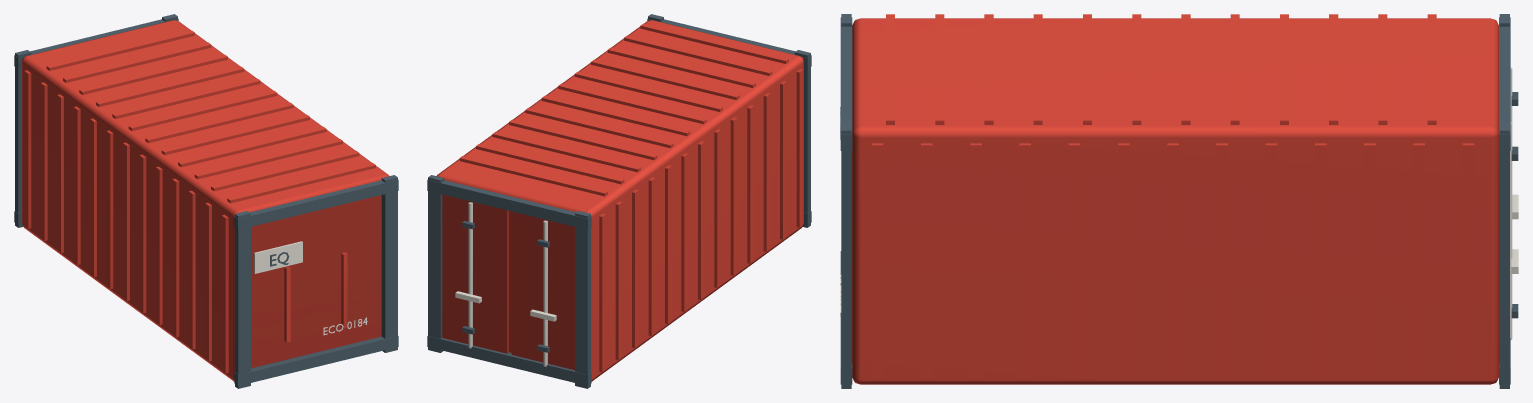
The model's file is container-red.glb.
3 renders of one model, left to right at view 1: azimuth 30°, elevation 25°; view 2: azimuth 150°, elevation 25°; view 3: azimuth 270°, elevation 25°, orthographic. The views are drawn at different scales.
Parts seen in each view (by area): view 1: freight container, corner casting, locking bar; view 2: freight container, corner casting, locking bar; view 3: freight container, corner casting, locking bar.
Boxes of the visible parts, <box> form: freight container: <box>22,20,388,381</box>; corner casting: <box>14,14,398,388</box>; locking bar: <box>254,241,367,335</box>; freight container: <box>437,20,803,381</box>; corner casting: <box>427,14,811,388</box>; locking bar: <box>455,202,556,366</box>; freight container: <box>851,14,1499,384</box>; corner casting: <box>840,14,1518,388</box>; locking bar: <box>840,67,1518,339</box>.
Bounding box in the file's own units: 1.1 × 1.12 × 2.62.
